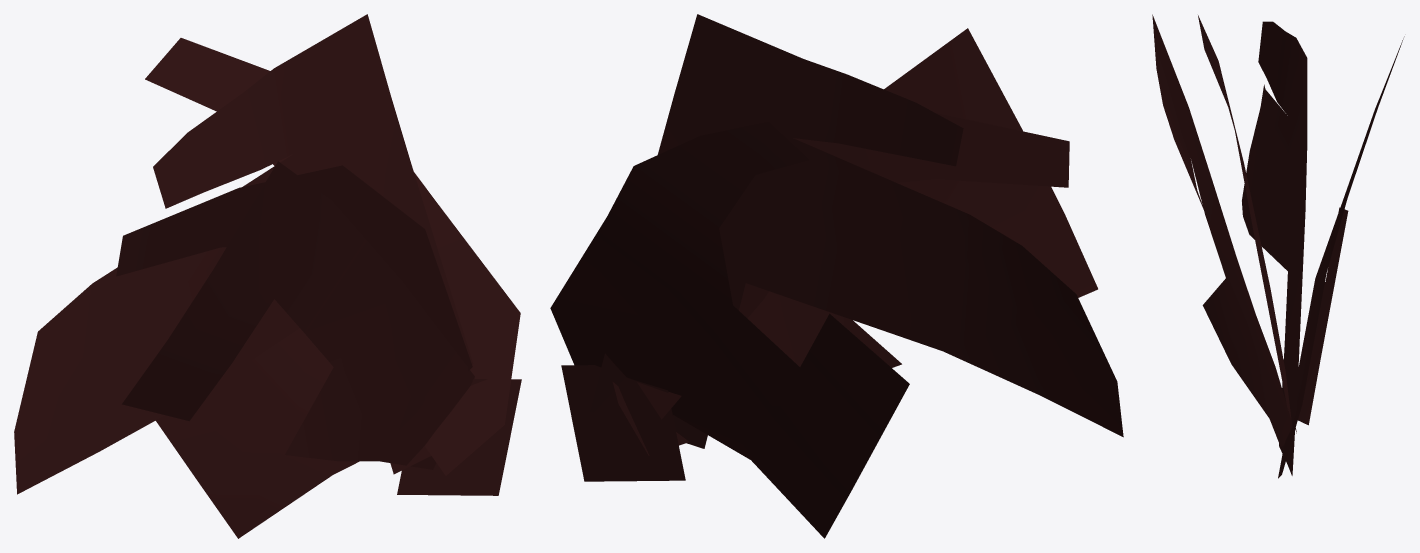
The model's file is SM_ocean_scatterPlant_02_C.fbx.
3 renders of one model, left to right at view 1: azimuth 30°, elevation 25°; view 2: azimuth 150°, elevation 25°; view 3: azimuth 270°, elevation 25°, orthographic. The views are drawn at different scales.
Parts seen in each view (by area): view 1: SM_ocean_scatterPlant_02_C_LOD0; view 2: SM_ocean_scatterPlant_02_C_LOD0; view 3: SM_ocean_scatterPlant_02_C_LOD0.
Boxes of the visible parts, box(x1,y1,x2,y2) form: SM_ocean_scatterPlant_02_C_LOD0: box(14, 14, 521, 538); SM_ocean_scatterPlant_02_C_LOD0: box(550, 14, 1123, 538); SM_ocean_scatterPlant_02_C_LOD0: box(1152, 14, 1404, 478).
Size of what is drawn, in the model's own units: 40.11 by 19.14 by 35.91.
